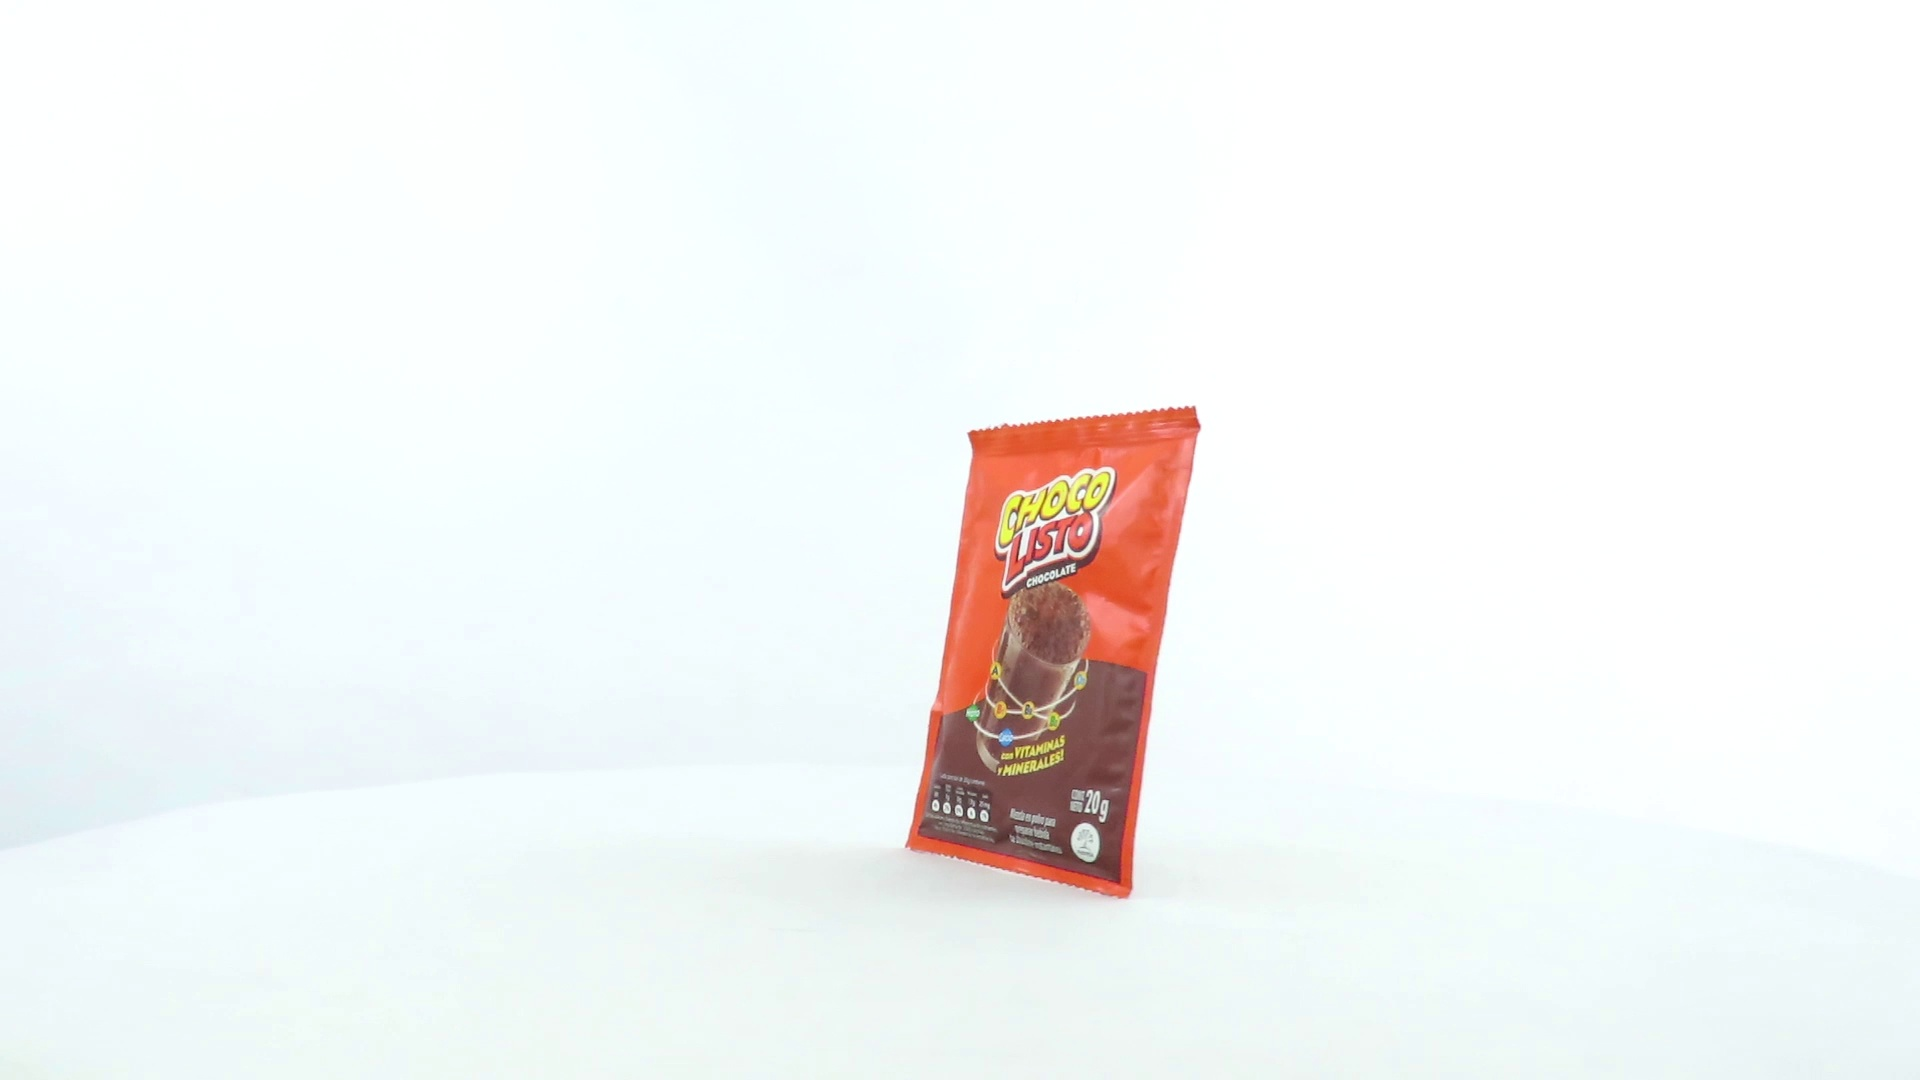COL0170103SOB02000: (899, 400, 1207, 905)
